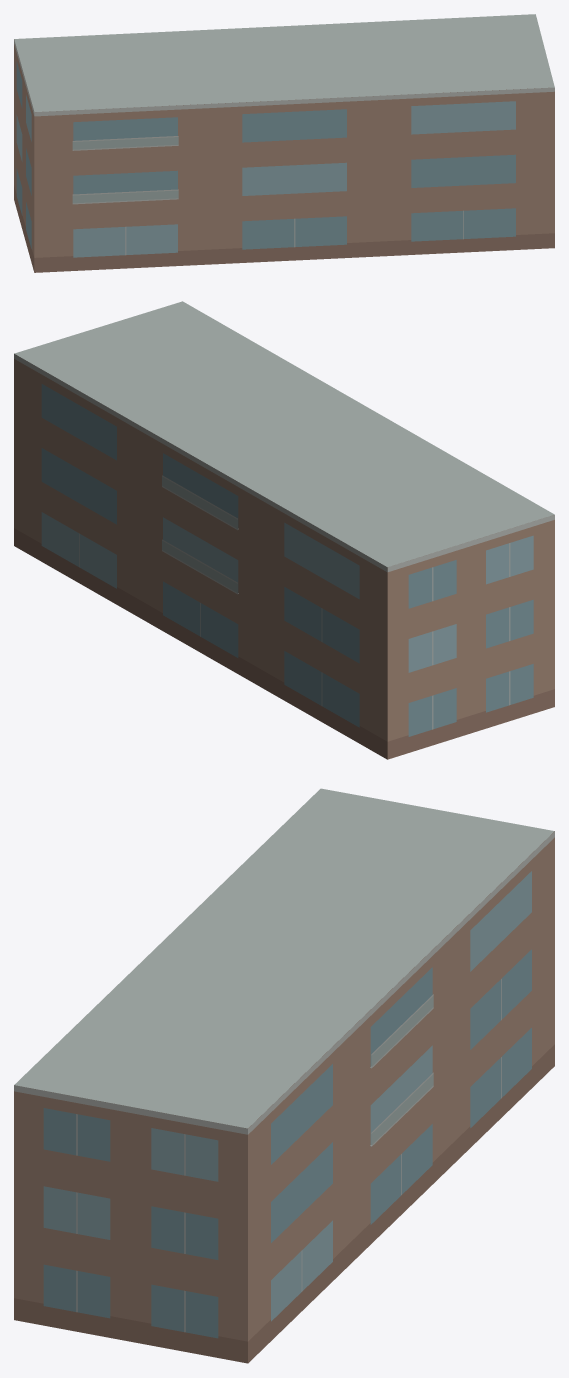
File: survey-upis-32551317.glb
3 views of the same model, one above another, from view 1: azimuth 30°, elevation 25°; view 2: azimuth 150°, elevation 25°; view 3: azimuth 270°, elevation 25° (orthographic). The views are drawn at different scales.
Visible parts, largest first — view 1: survey-upis-32551317.tmp; view 2: survey-upis-32551317.tmp; view 3: survey-upis-32551317.tmp.
Part boxes in pixels (box(x1,y1,x2,y2)): survey-upis-32551317.tmp: box(14, 14, 554, 272); survey-upis-32551317.tmp: box(14, 301, 554, 759); survey-upis-32551317.tmp: box(14, 788, 554, 1363).
Bounding box in the file's own units: 28.41 × 9.15 × 19.1.
